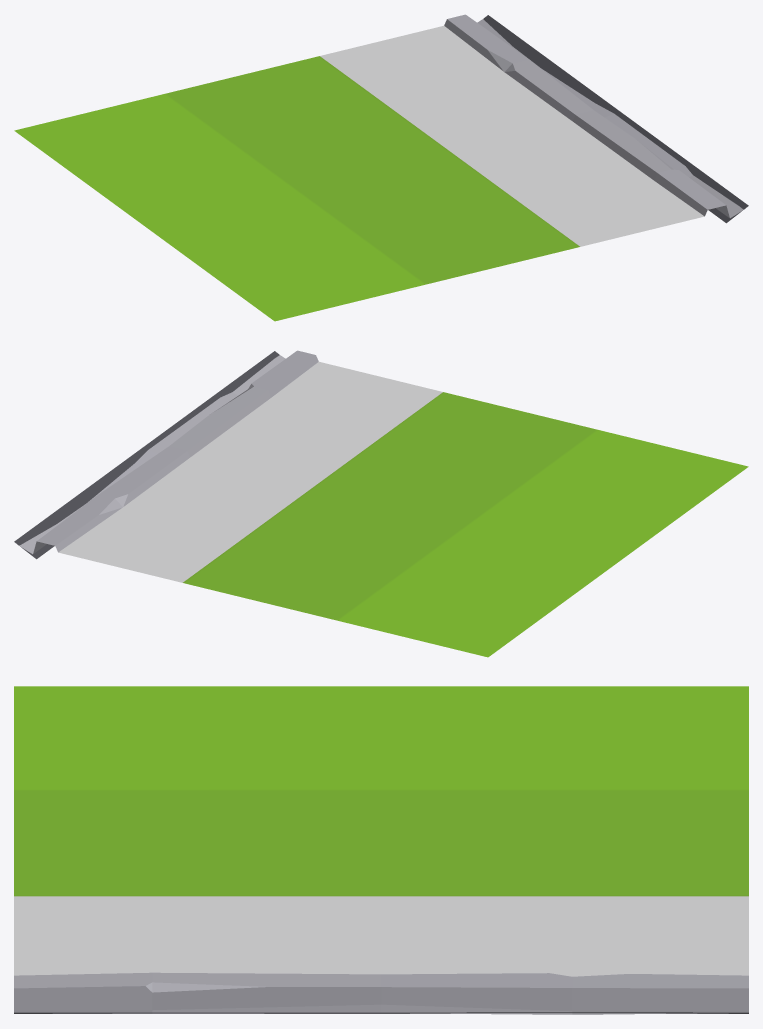
Rendered from sidewalk_1_4.fbx.
3 views of the same model, one above another, from view 1: azimuth 30°, elevation 25°; view 2: azimuth 150°, elevation 25°; view 3: azimuth 270°, elevation 25° (orthographic). The views are drawn at different scales.
Visible parts, largest first — view 1: sidewalk_1_4; view 2: sidewalk_1_4; view 3: sidewalk_1_4.
Boxes of the visible parts, x1=… form: sidewalk_1_4: x1=14, y1=14, x2=748, y2=321; sidewalk_1_4: x1=14, y1=350, x2=748, y2=657; sidewalk_1_4: x1=14, y1=686, x2=748, y2=1014.
Bounding box in the file's own units: 1050 × 41.09 × 1000.
